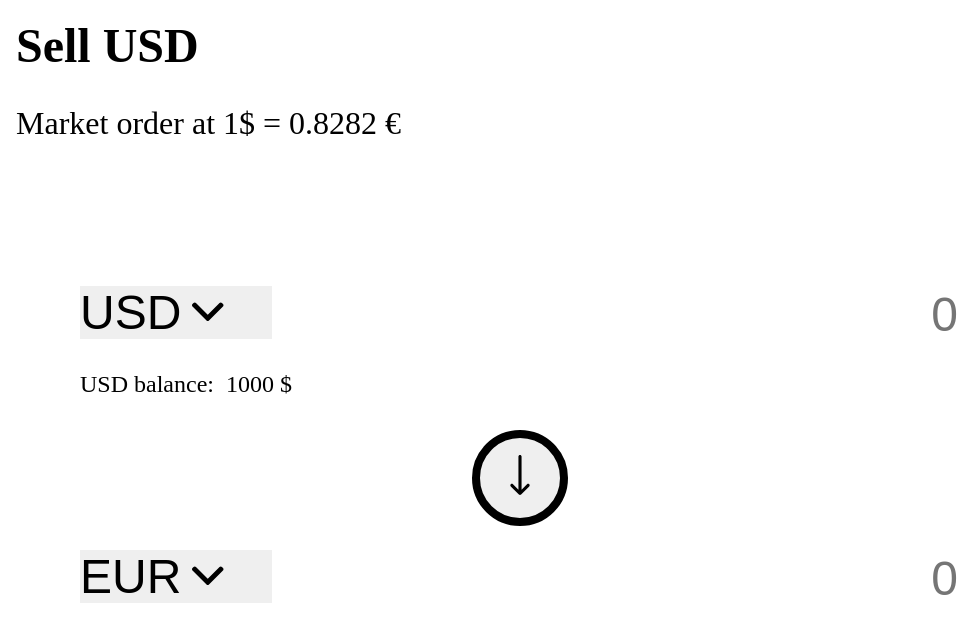
Widget › should render change both input values, signs and show error
This screenshot has width=977, height=635.
Type "1000" into the 1st field with placeholder "0".
click(782, 314); type("1000")  # box [604, 286, 960, 343]
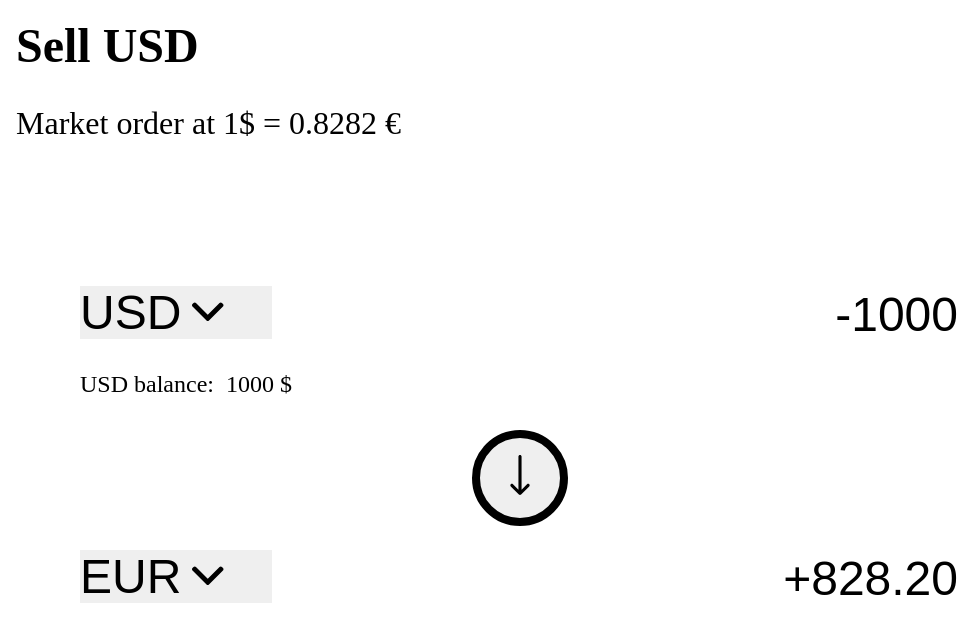
Result: the 1st field holds "-1000" at [604, 286, 960, 343]
Result: the 2nd field holds "+828.20" at [604, 550, 960, 607]
Click the button with test id "swap-transaction".
click(520, 478)  # box [472, 430, 568, 526]
(page scrolled)
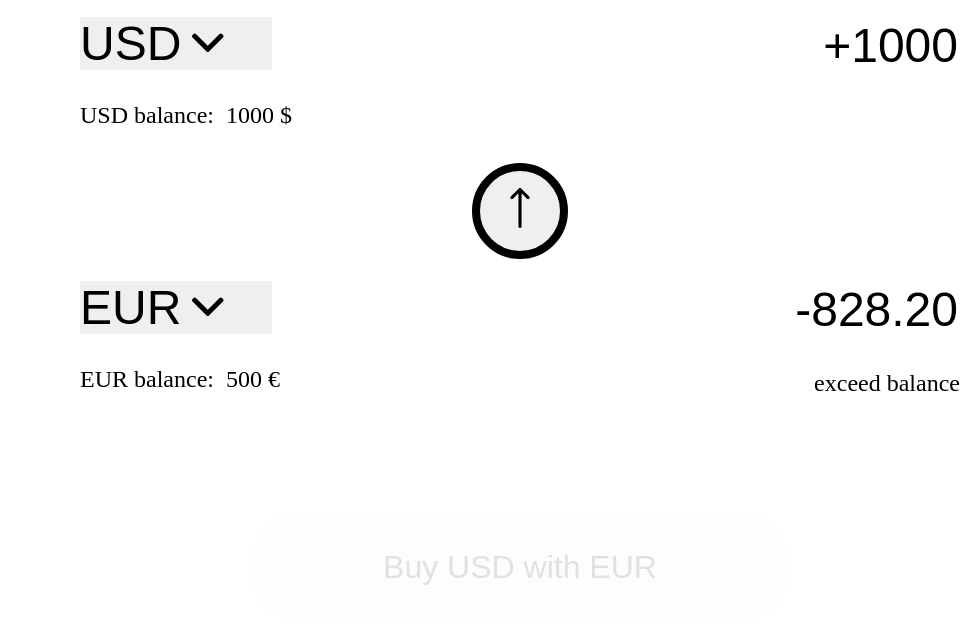
Result: the 1st field holds "+1000" at [604, 17, 960, 74]
Result: the 2nd field holds "-828.20" at [604, 281, 960, 338]
Result: the text "exceed balance" is shown at [814, 370, 960, 397]
